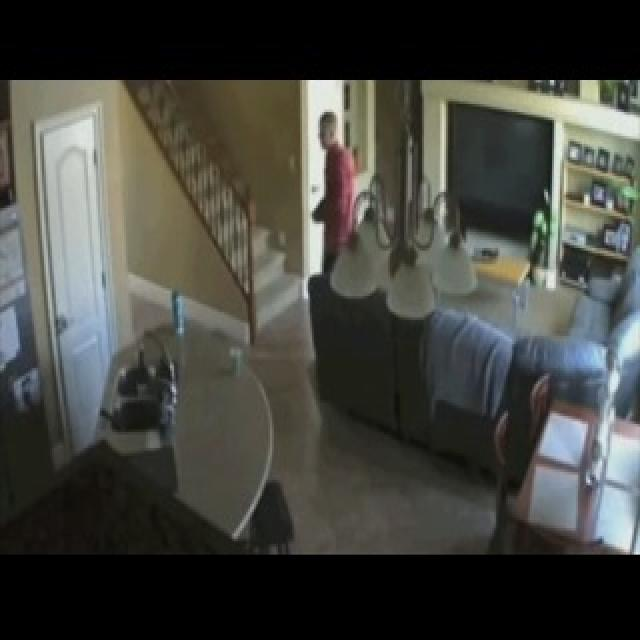thief: (309, 103, 362, 187)
